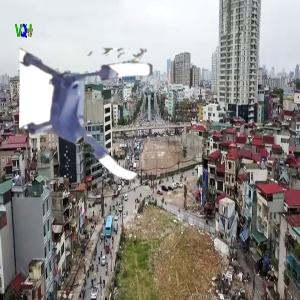drone: (20, 48, 161, 189)
